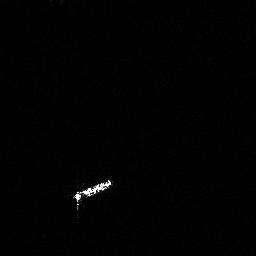ship: (70, 176, 115, 213)
